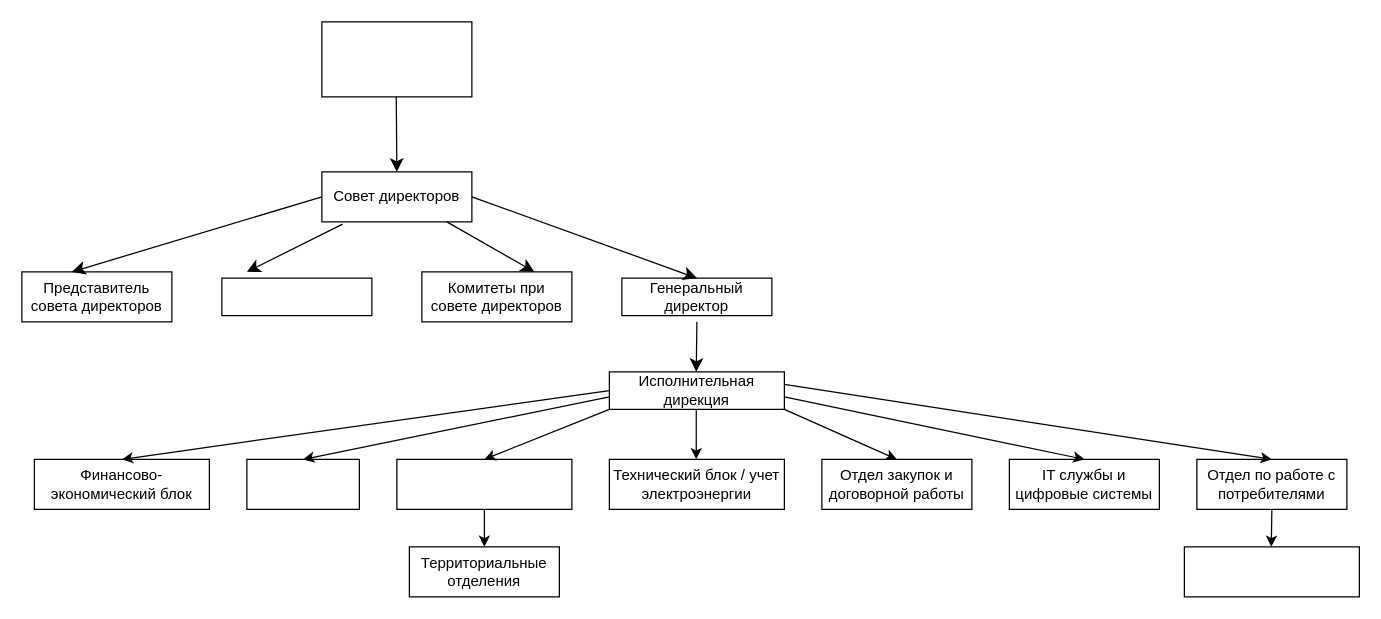
The diagram is 1381 pixels wide and 619 high, and some of its shapes have lost their labels. The centre of each missing label's shape, as x and y in pixels:
Коммерческий блок(сбыт электроэнергии): (484,483)
Общее собрание акционеров: (396,59)
Ревизионная комиссия: (296,296)
Центры обслуживания клиентов: (1271,571)
Юридический документ: (302,483)
